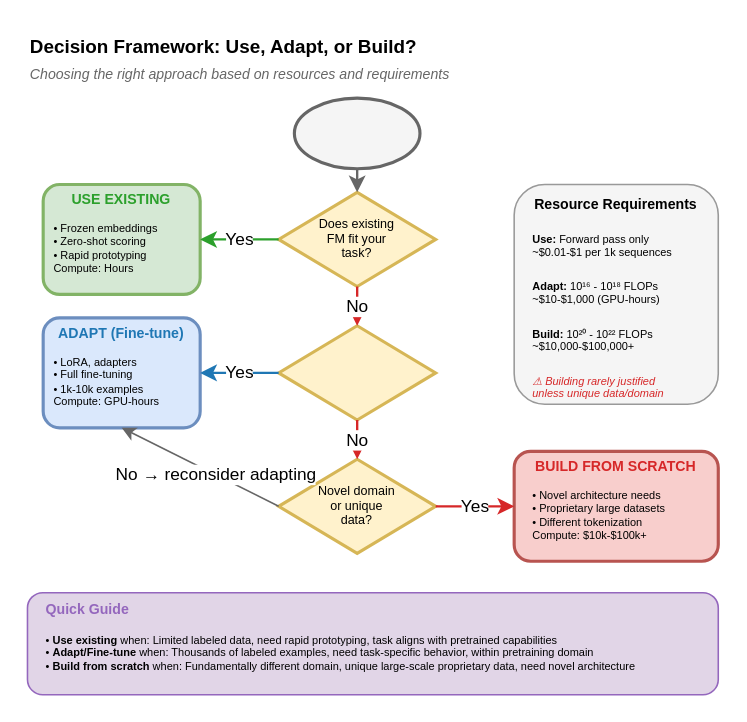
This 747x722 diagram has some shape labels left out. Each missing label, with the box of its shape:
Need task- specific behavior?: (276, 323, 436, 421)
New genomic prediction task: (292, 96, 421, 170)
